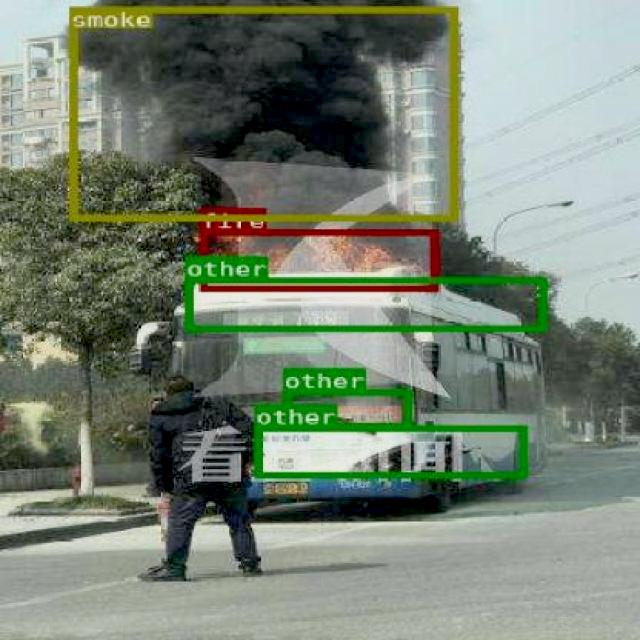fire: (198, 228, 437, 290)
smoke: (69, 6, 456, 219)
